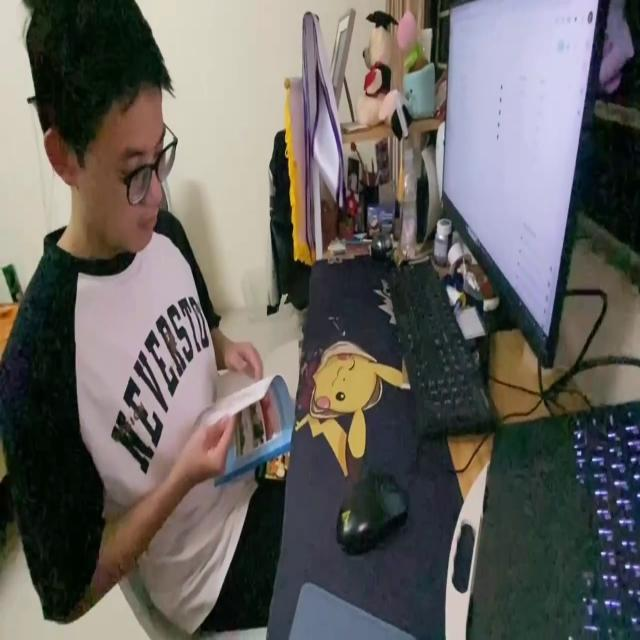book: (201, 333, 300, 474)
laptop: (439, 0, 614, 377), (457, 401, 640, 639)
student: (1, 0, 280, 623)
